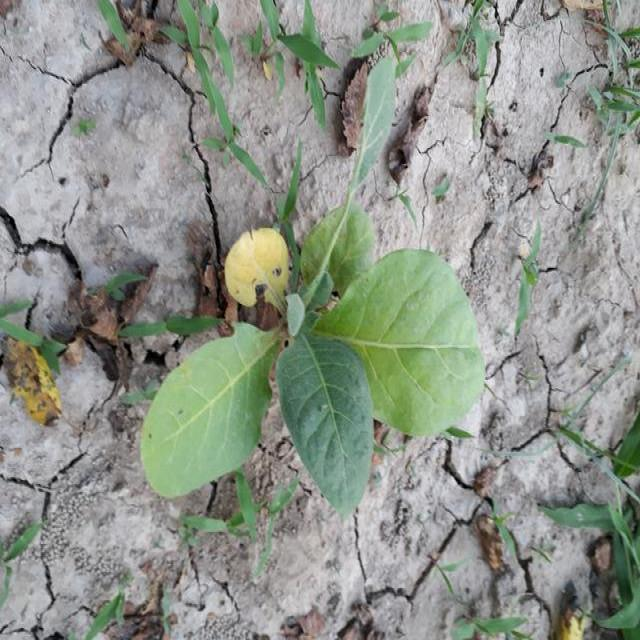crop: (140, 89, 492, 512)
